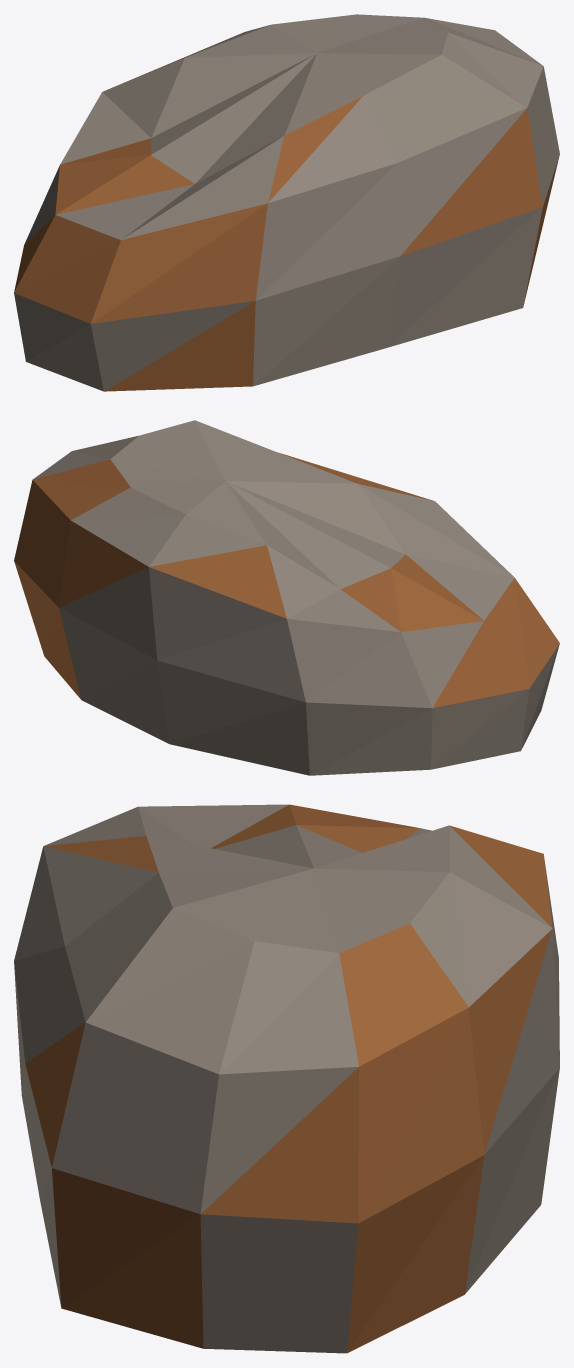
Rendered from item_rm_steel_b.obj.
3 views of the same model, one above another, from view 1: azimuth 30°, elevation 25°; view 2: azimuth 150°, elevation 25°; view 3: azimuth 270°, elevation 25° (orthographic). The views are drawn at different scales.
Bounding box in the file's own units: 0.8826 × 0.3803 × 0.5137.
